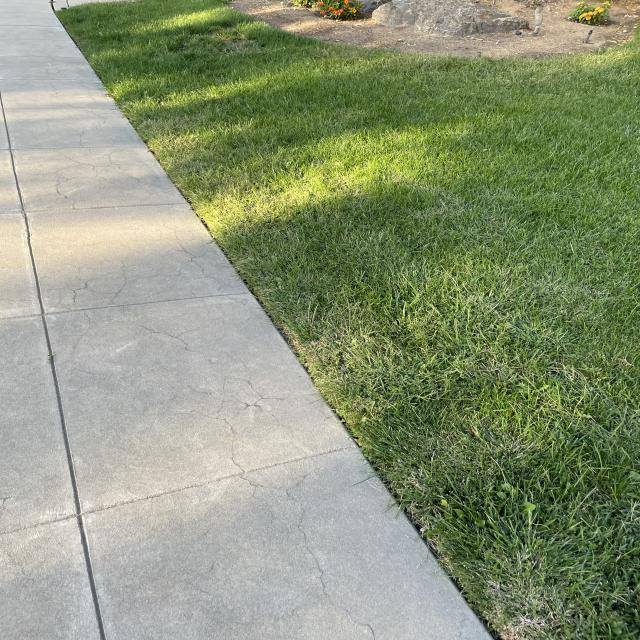walkway: (0, 527, 469, 640), (0, 364, 335, 478), (7, 456, 370, 560), (0, 296, 259, 390), (0, 210, 208, 308), (2, 153, 167, 230), (2, 100, 132, 166), (0, 56, 105, 112)
